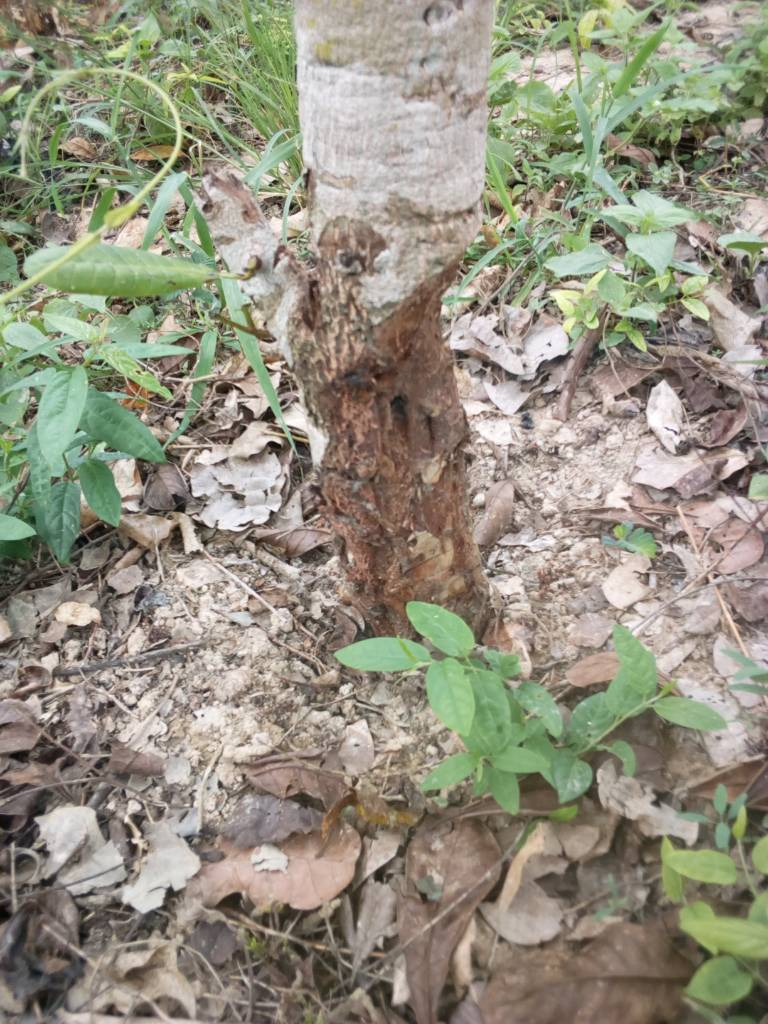ploceadorus ferrugineus: (287, 311, 515, 689)
